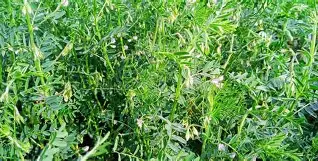crops: (1, 0, 312, 158), (263, 15, 316, 111), (191, 80, 243, 156), (152, 46, 200, 112), (130, 109, 192, 159), (171, 0, 240, 44), (33, 122, 108, 160), (1, 56, 46, 105), (20, 2, 44, 68), (246, 131, 295, 159)
